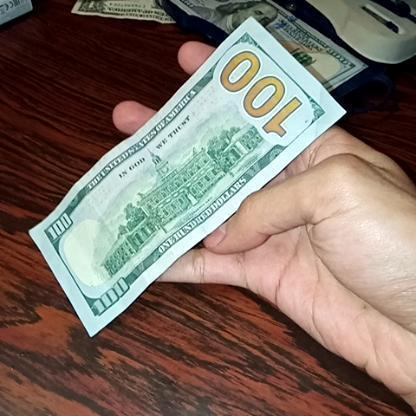one_hundred-back: (26, 16, 352, 334)
